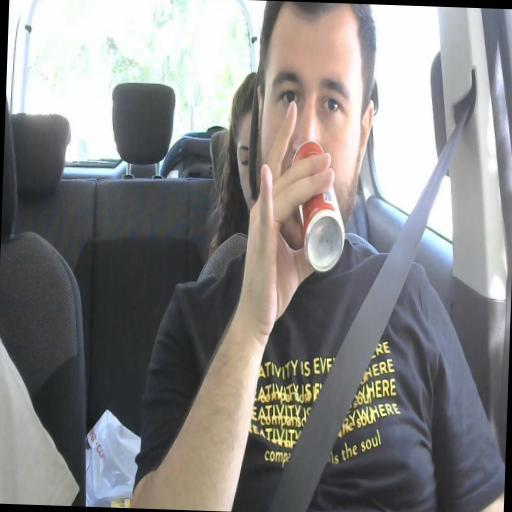Drinking: (254, 5, 373, 272)
